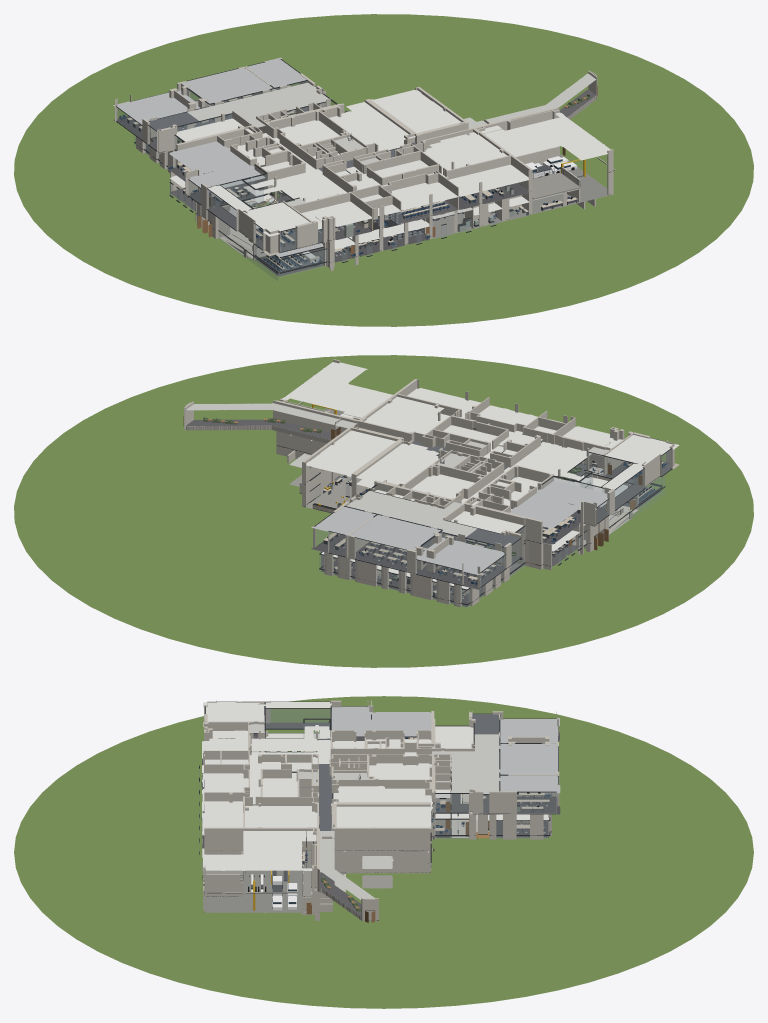
Rendered from ted_vr.glb.
The picture shows the model from 3 angles, top to bottom: view 1: azimuth 30°, elevation 25°; view 2: azimuth 150°, elevation 25°; view 3: azimuth 270°, elevation 25°; orthographic projection.
Visible parts, largest first — view 1: ground, int_wall_150, int_GWB-X1_64, int_MT-01_177, int_ACT-02_180, int_wall_36, int_EXPOSED_178, int_glass_152, int_GWB-X1_173, int_glass_38, int_ACT-03_176, int_EP-01_43 (+10 smaller); view 2: ground, int_wall_150, int_GWB-X1_64, int_MT-01_177, int_wall_36, int_glass_152, int_EXPOSED_178, int_ACT-02_180, int_GWB-X1_173, int_ACT-03_176, int_glass_38, int_RF-02_160 (+7 smaller); view 3: ground, int_wall_150, int_GWB-X1_64, int_MT-01_177, int_wall_36, int_ACT-02_180, int_EXPOSED_178, int_GWB-X1_173, int_glass_152, int_EP-01_43, int_ACT-03_176, int_mullion_153 (+4 smaller).
Part boxes in pixels (x1=…): ground: x1=14, y1=14, x2=753, y2=326; int_wall_150: x1=115, y1=58, x2=613, y2=253; int_GWB-X1_64: x1=170, y1=90, x2=610, y2=228; int_MT-01_177: x1=113, y1=57, x2=306, y2=191; int_ACT-02_180: x1=279, y1=111, x2=528, y2=229; int_wall_36: x1=136, y1=136, x2=615, y2=268; int_EXPOSED_178: x1=187, y1=73, x2=595, y2=205; int_glass_152: x1=116, y1=81, x2=335, y2=251; int_GWB-X1_173: x1=229, y1=133, x2=459, y2=202; int_glass_38: x1=134, y1=135, x2=495, y2=281; int_ACT-03_176: x1=176, y1=118, x2=382, y2=231; int_EP-01_43: x1=427, y1=154, x2=607, y2=238; ground: x1=14, y1=355, x2=753, y2=667; int_wall_150: x1=184, y1=359, x2=674, y2=588; int_GWB-X1_64: x1=282, y1=362, x2=627, y2=576; int_MT-01_177: x1=311, y1=481, x2=607, y2=574; int_wall_36: x1=276, y1=401, x2=638, y2=607; int_glass_152: x1=316, y1=450, x2=670, y2=586; int_EXPOSED_178: x1=186, y1=403, x2=608, y2=537; int_ACT-02_180: x1=356, y1=388, x2=623, y2=498; int_GWB-X1_173: x1=370, y1=413, x2=591, y2=509; int_ACT-03_176: x1=451, y1=426, x2=672, y2=533; int_glass_38: x1=319, y1=475, x2=665, y2=607; int_RF-02_160: x1=311, y1=464, x2=608, y2=589; ground: x1=14, y1=696, x2=753, y2=1008; int_wall_150: x1=203, y1=700, x2=559, y2=921; int_GWB-X1_64: x1=203, y1=733, x2=489, y2=870; int_MT-01_177: x1=331, y1=705, x2=560, y2=793; int_wall_36: x1=204, y1=729, x2=551, y2=912; int_ACT-02_180: x1=202, y1=730, x2=433, y2=835; int_EXPOSED_178: x1=249, y1=724, x2=499, y2=899; int_GWB-X1_173: x1=245, y1=726, x2=416, y2=827; int_glass_152: x1=265, y1=708, x2=556, y2=825; int_EP-01_43: x1=202, y1=825, x2=312, y2=912; int_ACT-03_176: x1=206, y1=702, x2=473, y2=764; int_mullion_153: x1=205, y1=701, x2=558, y2=860.
Size of what is drawn, in the model's own units: 134 by 14.5 by 134.
